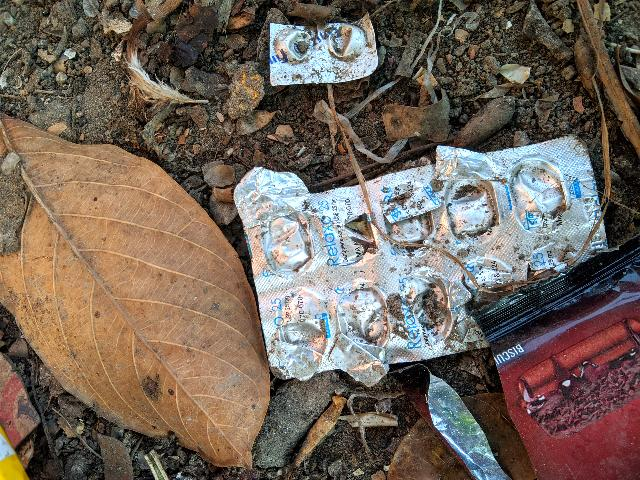medicine: (231, 155, 606, 372), (256, 3, 384, 88)
